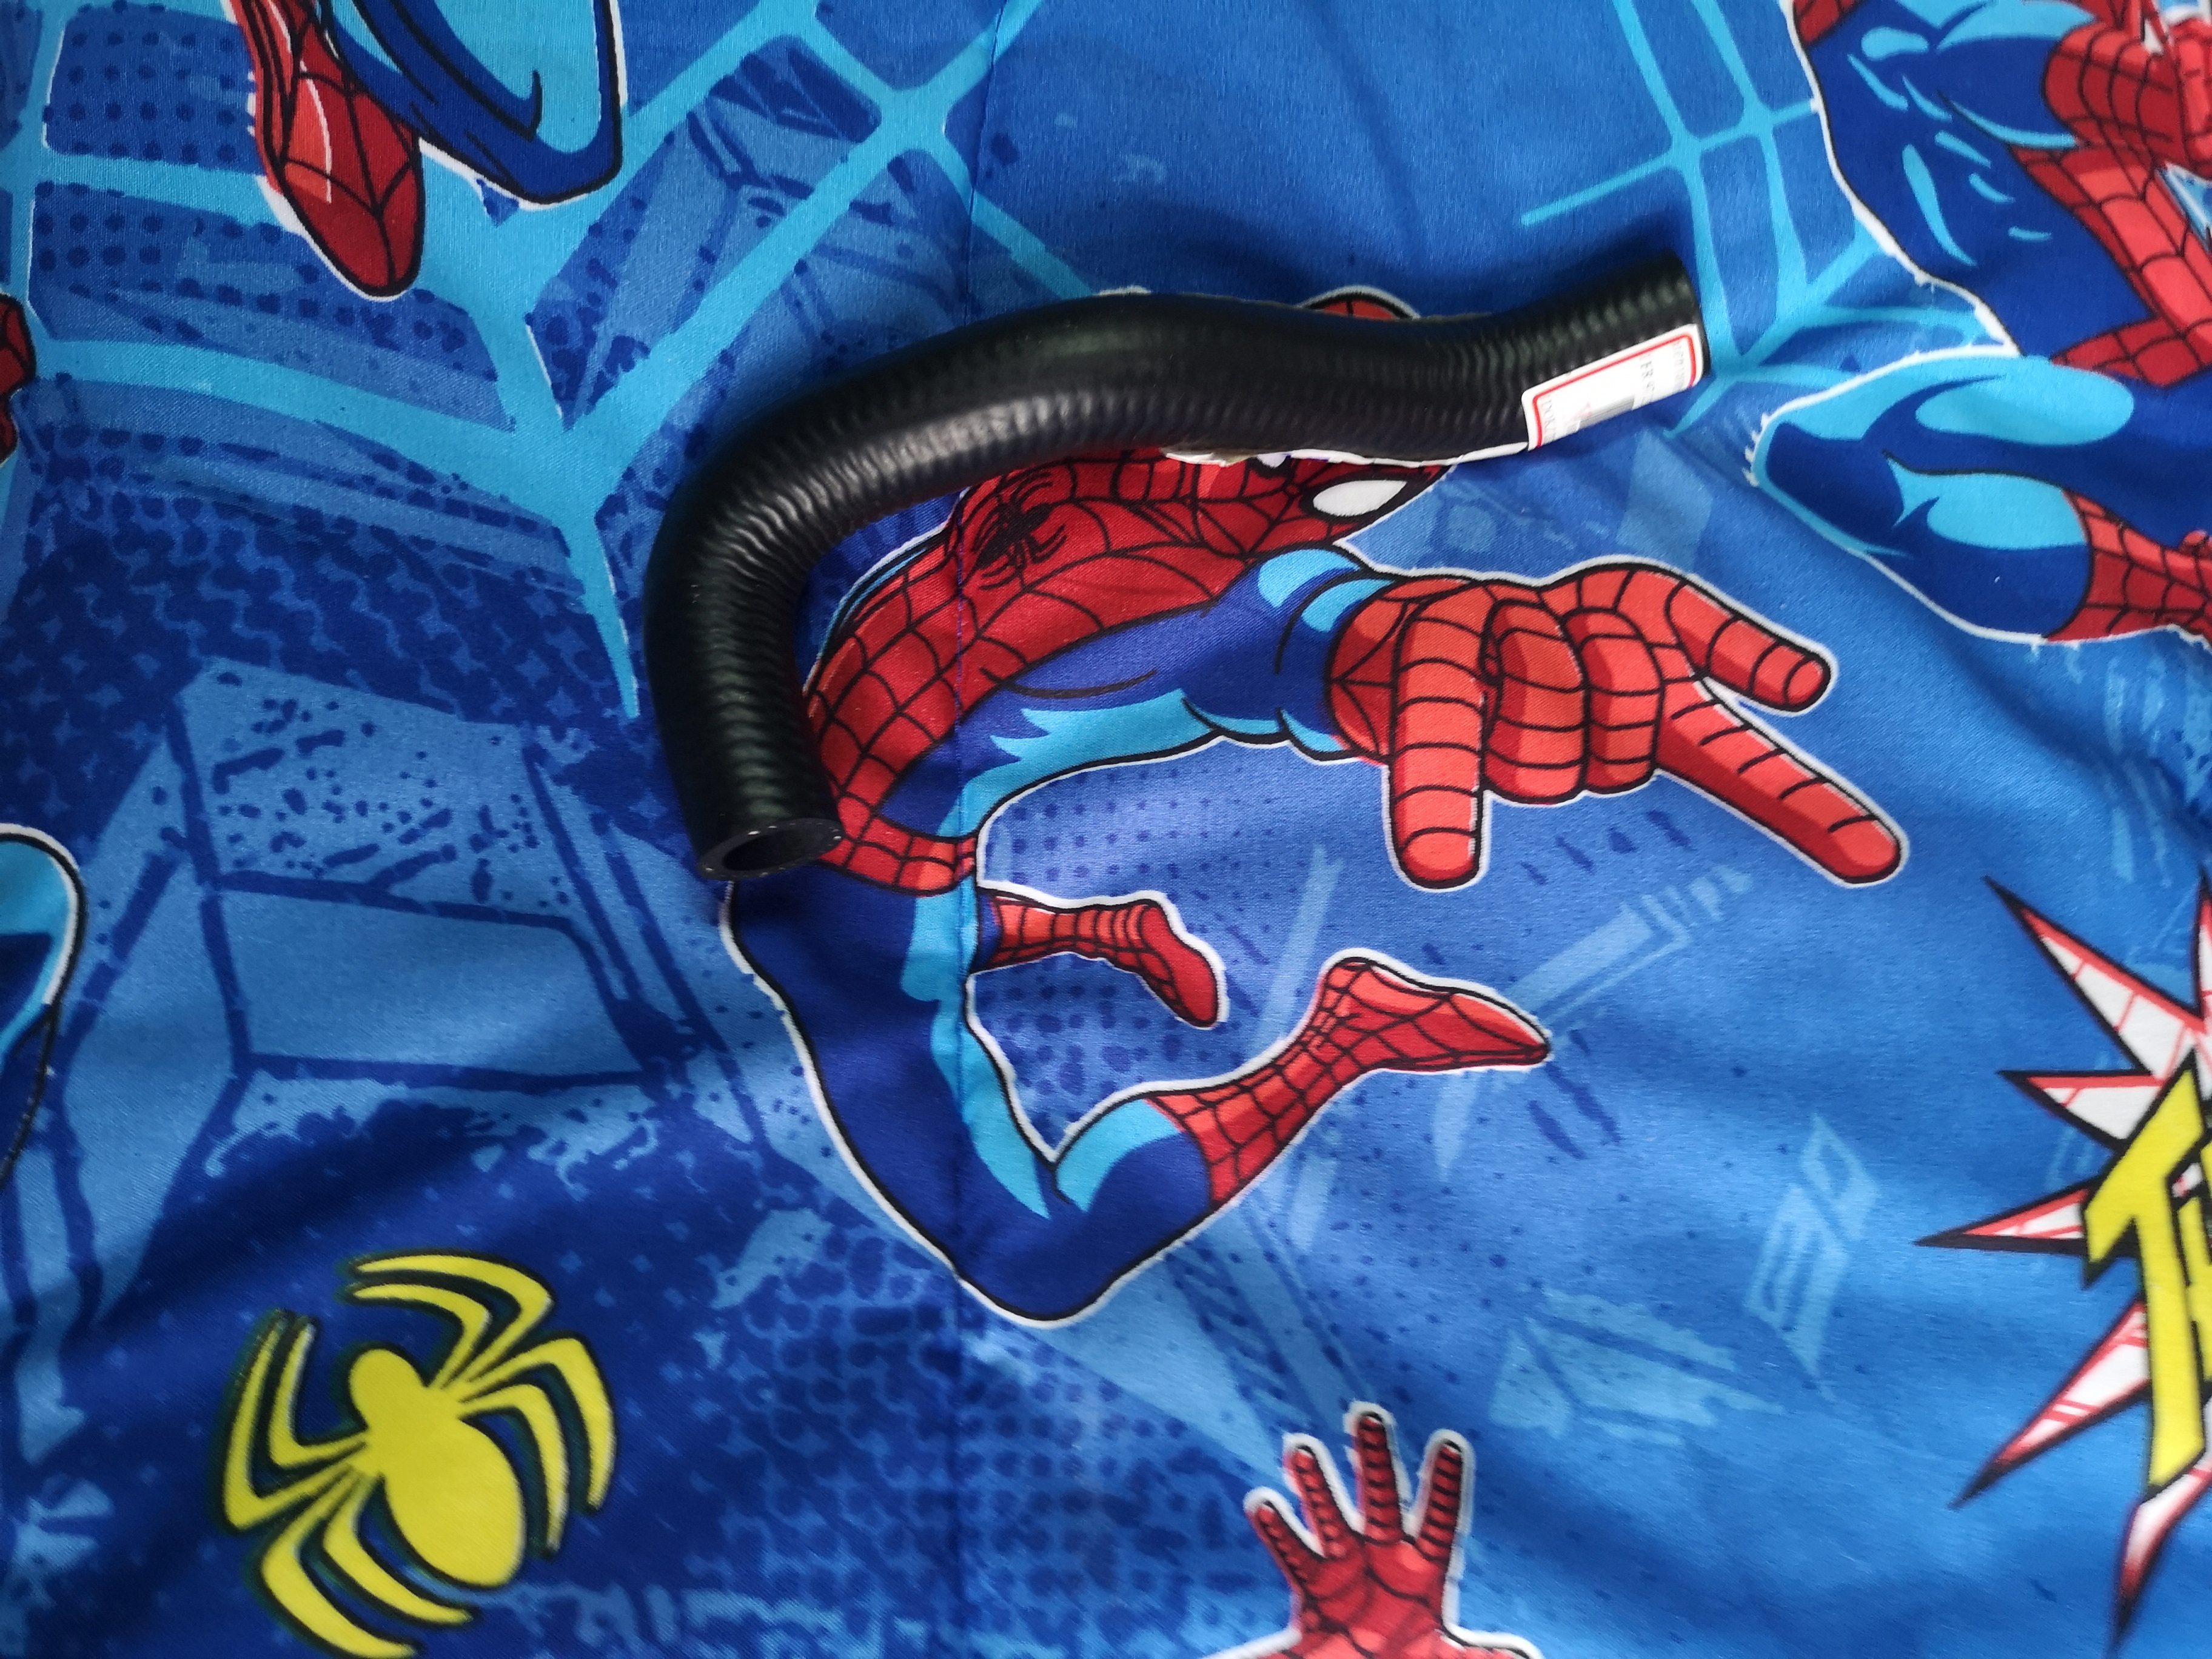ท่อยางน้ำมันเลี้ยงเทอร์โบ: (596, 220, 1780, 843)
